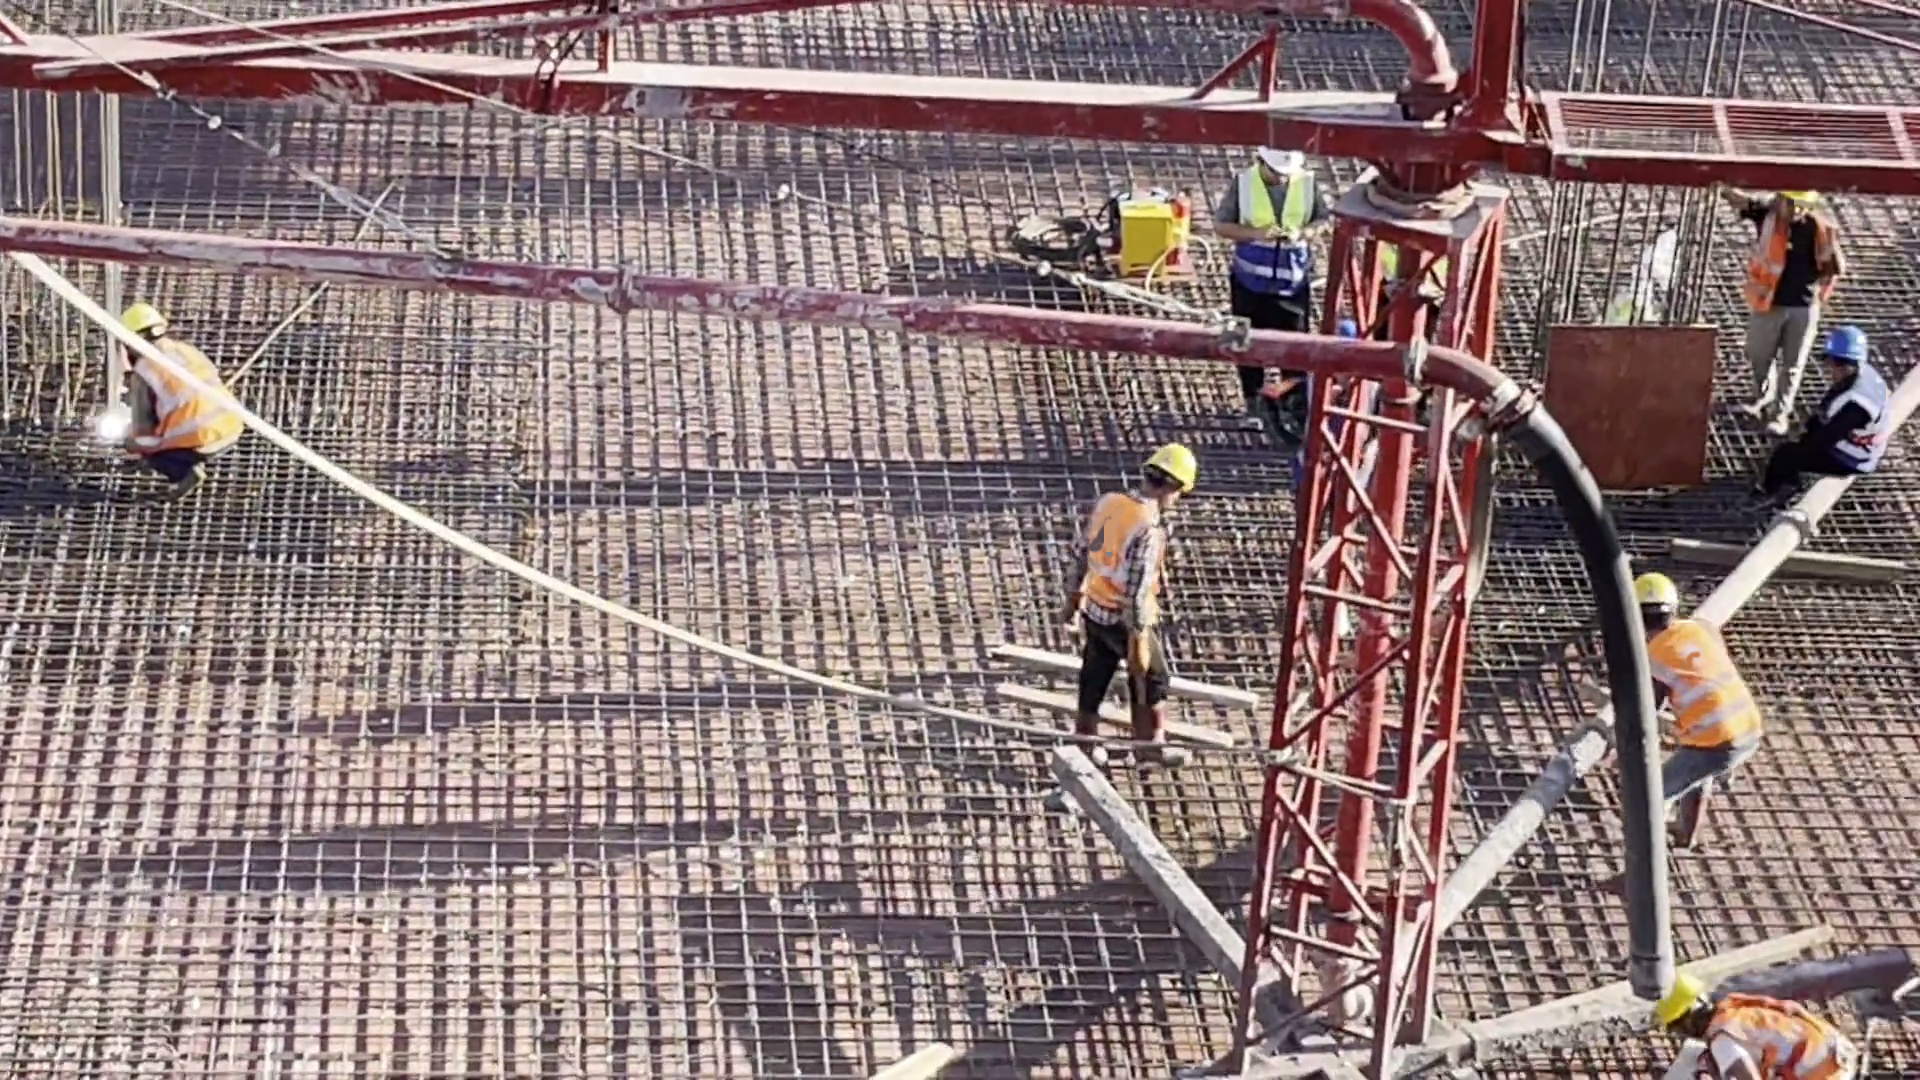helmet: (1641, 975, 1699, 1025), (1828, 331, 1880, 380), (1147, 445, 1196, 484), (1636, 576, 1680, 611), (123, 305, 164, 340), (1247, 149, 1292, 179), (1777, 192, 1819, 223)
person: (1065, 448, 1210, 764), (1631, 573, 1773, 845), (1705, 187, 1829, 456), (1759, 318, 1900, 523), (1222, 145, 1321, 434), (1640, 960, 1862, 1080), (120, 301, 247, 508)
vest: (1660, 631, 1759, 760), (1707, 996, 1848, 1080), (148, 344, 232, 460), (1084, 499, 1148, 628), (1243, 173, 1307, 289), (1819, 383, 1889, 472), (1752, 225, 1824, 312)
